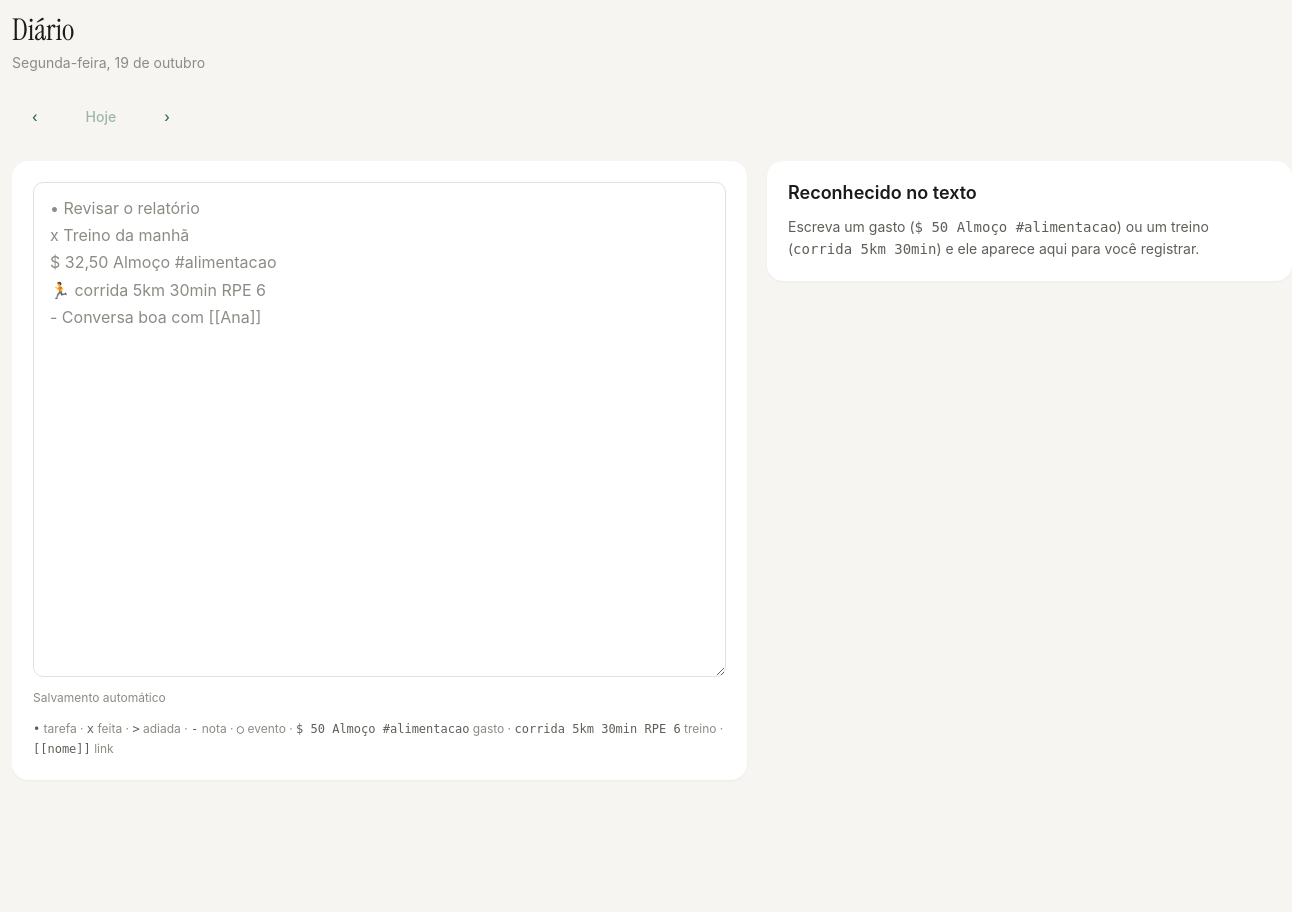
JournalPage (diário) › salva sozinho depois de uma pausa na digitação
The image size is (1292, 912).
Replace the text in the text box named "Texto do dia" with "• Revisar relatório" at (380,430), box x1=33 y1=182 x2=726 y2=677
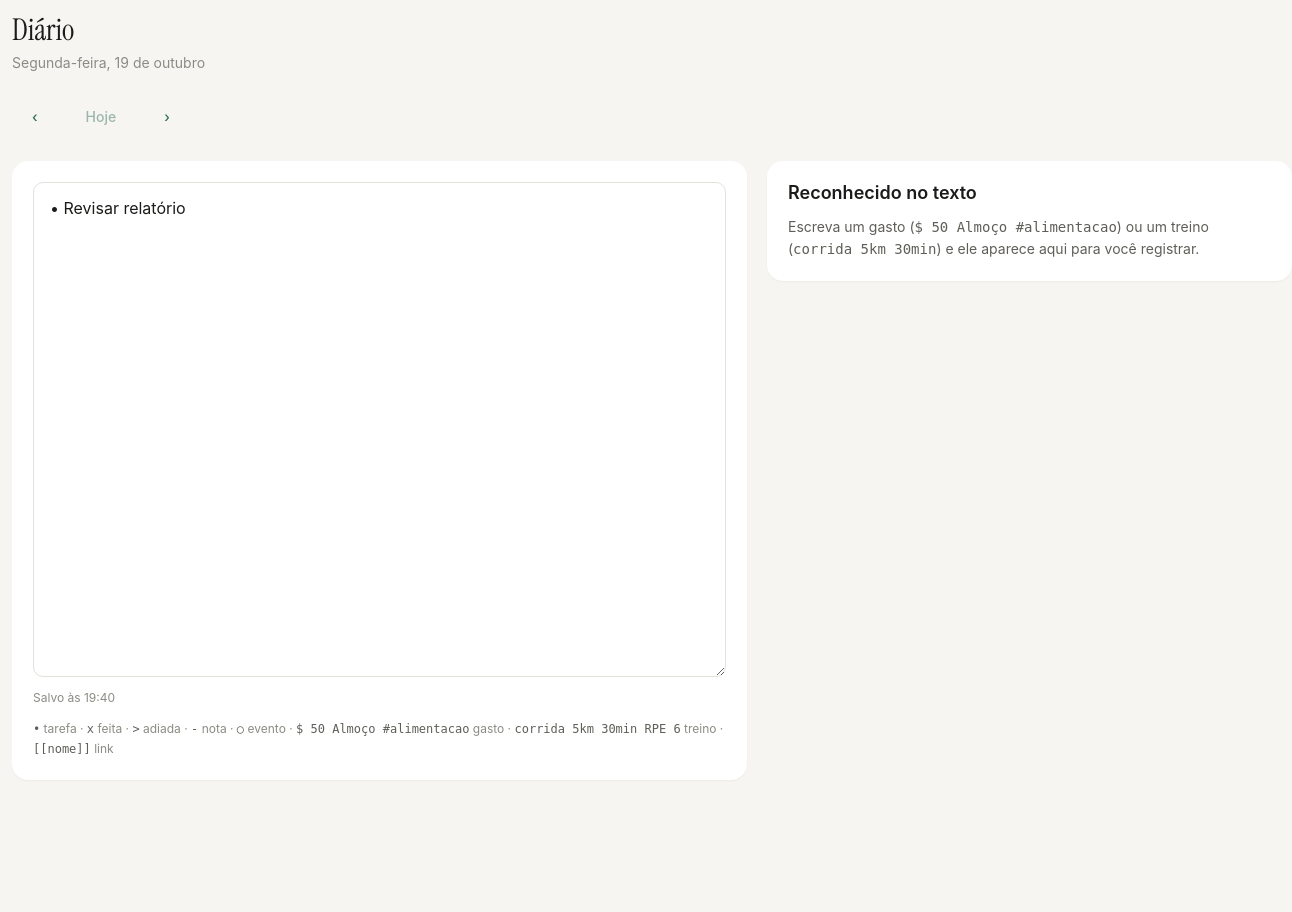
Result: the text "Salvo às 19:40" is shown at x1=33 y1=689 x2=115 y2=707
